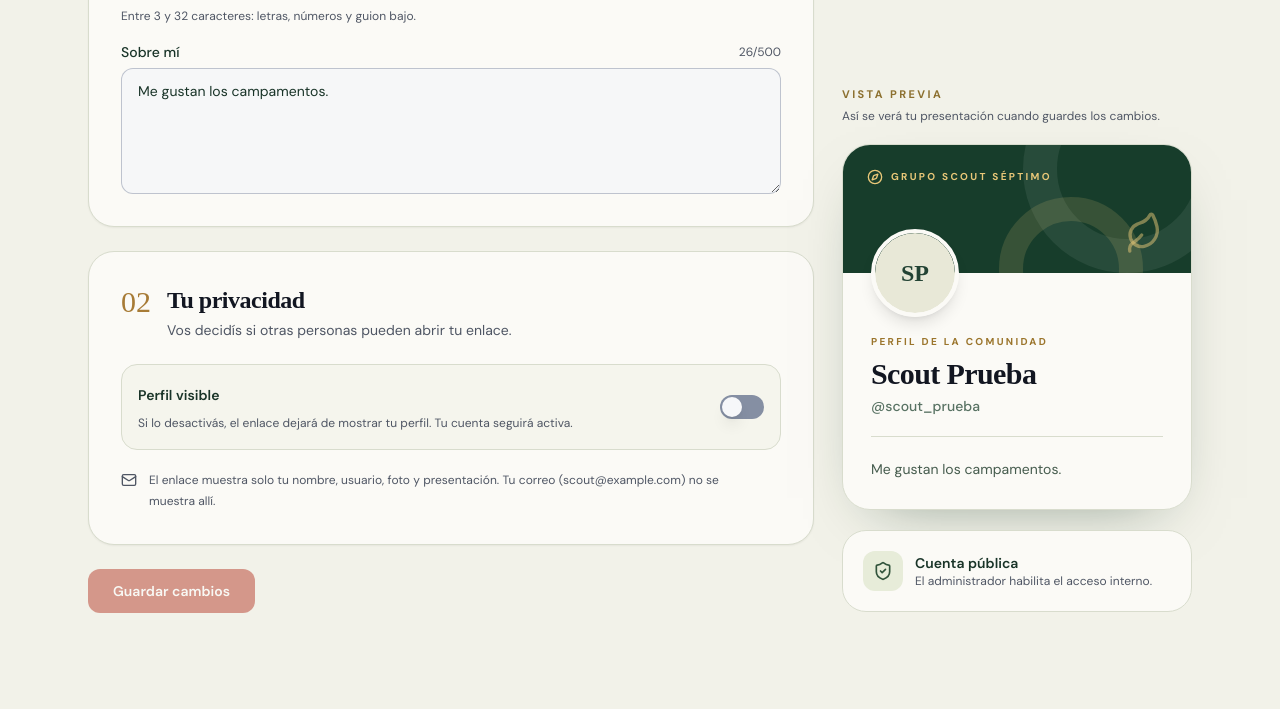
it: public profile › keeps the share link hidden until visibility is saved
(page scrolled)
Check: the text "Tu enlace público" is not shown
Click the switch named "Perfil visible".
click(742, 407)  # box [720,395,764,419]
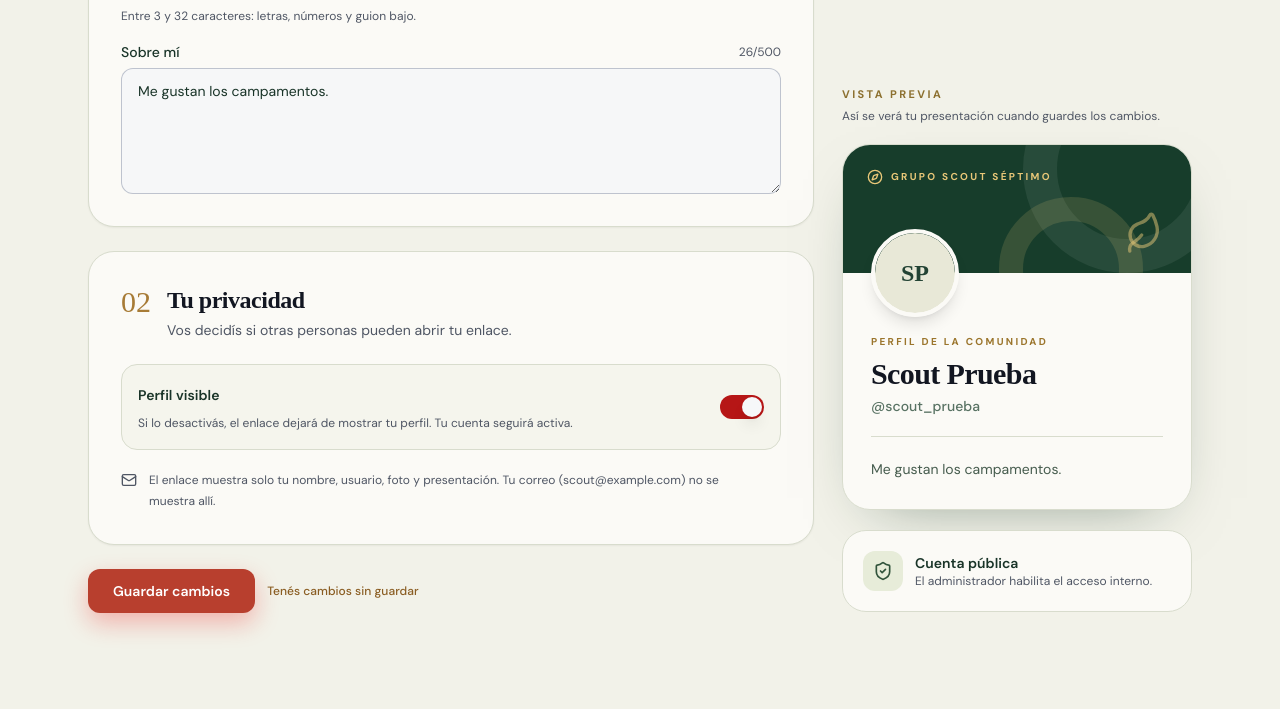
Check: the text "Tu enlace público" is not shown
Click the button "Guardar cambios".
click(172, 591)  # box [88,569,255,613]
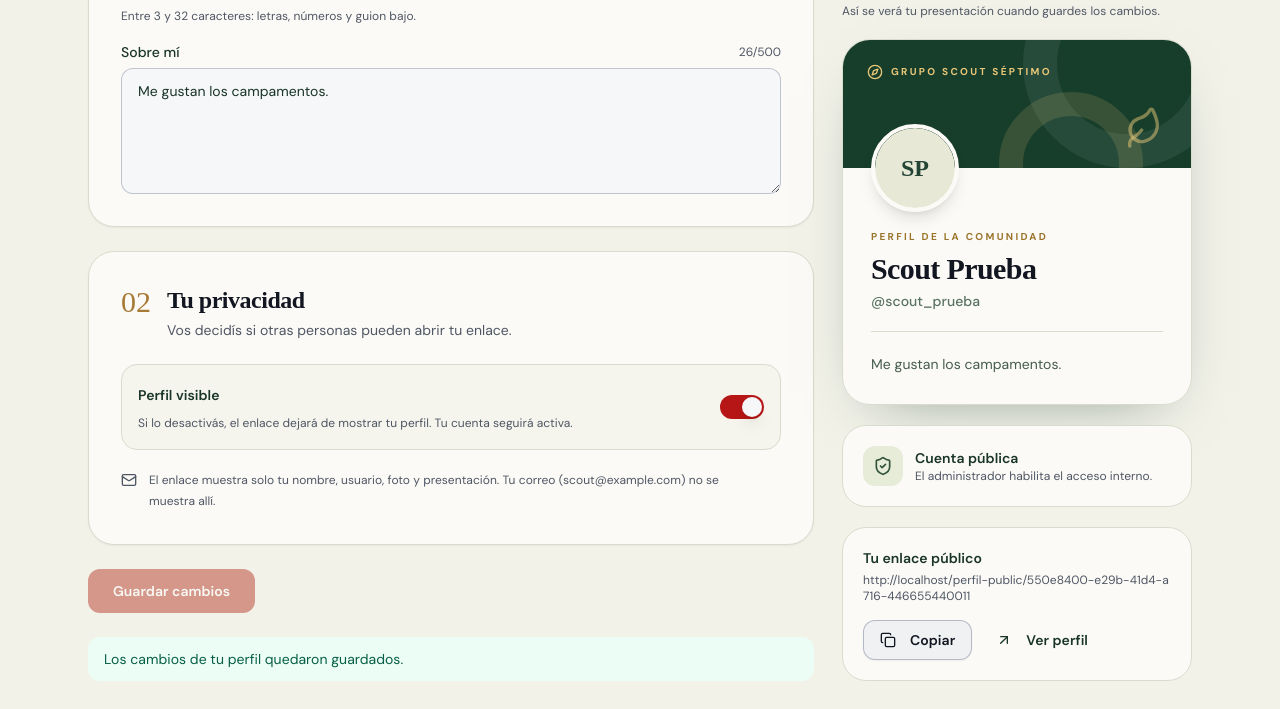
Check: the text "Tu enlace público" is shown, box [863,549,982,567]
